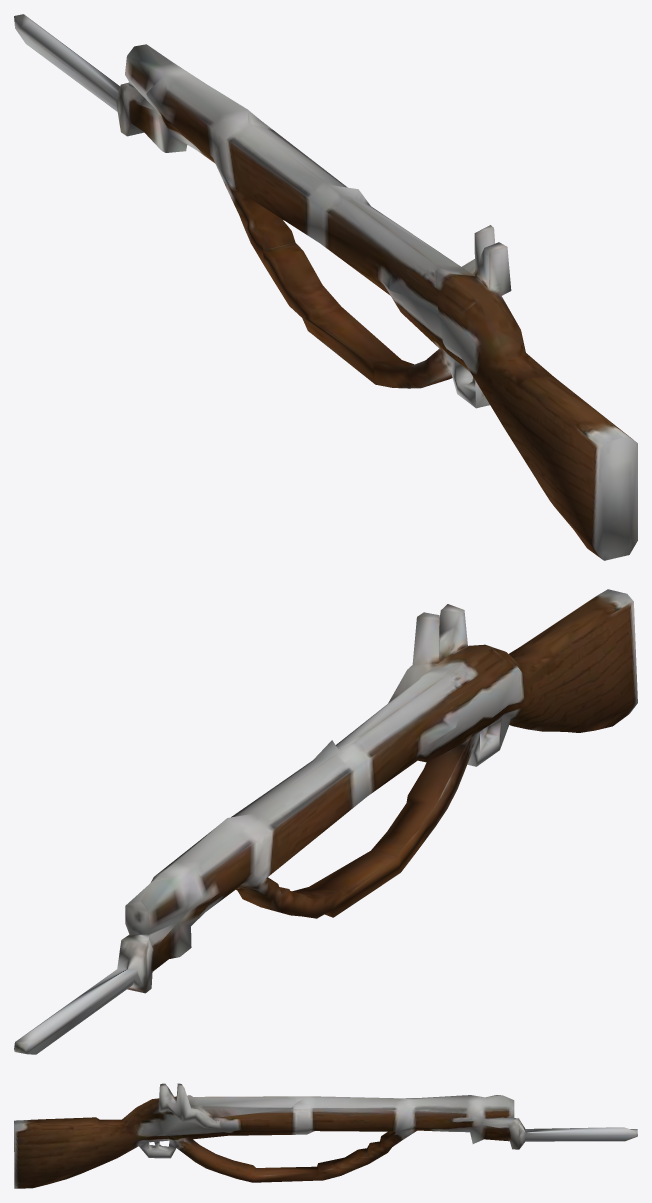
File: bayonet-rifle.glb
3 renders of one model, top to bottom at view 1: azimuth 30°, elevation 25°; view 2: azimuth 150°, elevation 25°; view 3: azimuth 270°, elevation 25°, orthographic. The views are drawn at different scales.
Parts seen in each view (by area): view 1: flintlock-rifle; view 2: flintlock-rifle; view 3: flintlock-rifle.
Boxes of the visible parts, <box> form: flintlock-rifle: <box>14,14,637,560</box>; flintlock-rifle: <box>14,589,637,1054</box>; flintlock-rifle: <box>14,1083,637,1188</box>.
Size of the model in its own units: 0.1628 by 0.4555 by 2.4.
1 material, 1 textured.
